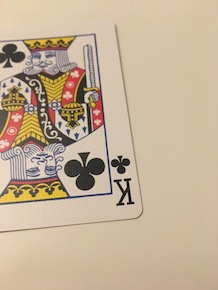KingOfClubs: (1, 18, 148, 239)
